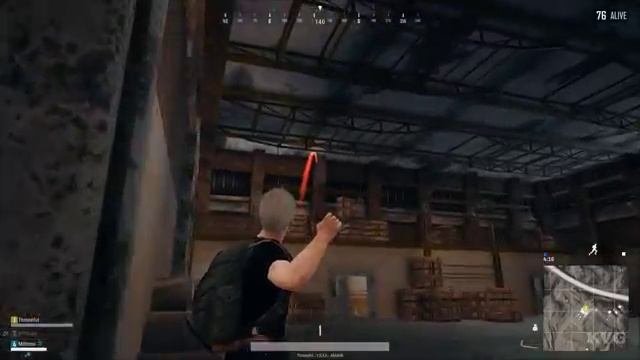Player: (205, 173, 352, 307)
